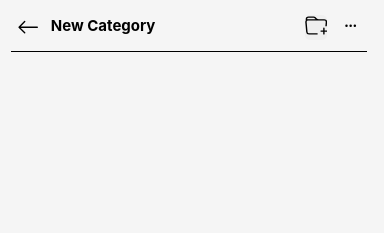
Scenario: <CategoryNav /> › sorting and removing sorting from categories displays correct information
The width and height of the screenshot is (384, 233).
Click the button with test id "navDropdown-test": coordinates (351, 27) [338, 18, 364, 37]
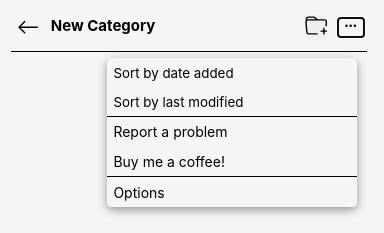
Result: the button "Sort by date added" is shown at [107, 58, 357, 87]
Result: the button "Sort by last modified" is shown at [107, 87, 357, 116]
